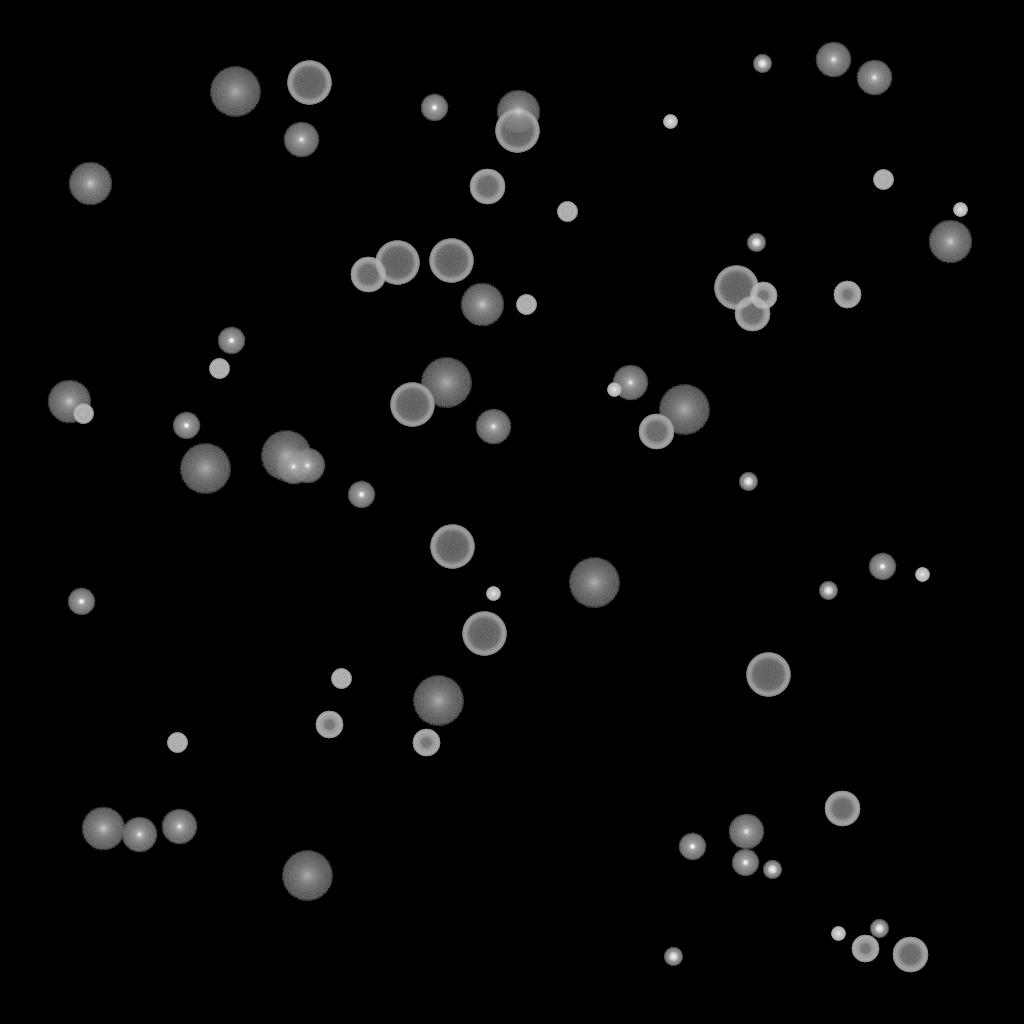depth:-10: (67, 588, 95, 616), (678, 833, 706, 861), (347, 481, 375, 509), (172, 412, 200, 440), (868, 553, 896, 581), (731, 849, 759, 877), (420, 94, 448, 122), (217, 327, 245, 355)
depth:-20: (870, 920, 888, 938), (747, 234, 765, 252), (763, 861, 781, 879), (753, 55, 771, 73), (739, 473, 757, 491), (819, 582, 837, 600), (664, 948, 682, 966)
depth:-30: (663, 115, 677, 129), (915, 568, 929, 582), (607, 383, 621, 397), (486, 587, 500, 601), (953, 203, 967, 217), (831, 927, 845, 941)
depth:-40: (516, 295, 536, 315), (73, 404, 93, 424), (167, 733, 187, 753), (873, 170, 893, 190), (209, 359, 229, 379), (331, 669, 351, 689), (557, 202, 577, 222)
depth:-50: (315, 711, 343, 739), (412, 729, 440, 757), (833, 281, 861, 309), (749, 282, 777, 310), (851, 935, 879, 963)
depth:-60: (824, 791, 860, 827), (469, 169, 505, 205), (734, 296, 770, 332), (350, 257, 386, 293), (638, 414, 674, 450), (892, 937, 928, 973)
depth:-70: (429, 239, 473, 283), (390, 383, 434, 427), (714, 266, 758, 310), (495, 109, 539, 153), (287, 61, 331, 105), (430, 525, 474, 569), (462, 612, 506, 656), (375, 241, 419, 285), (746, 653, 790, 697)
depth:0: (612, 365, 648, 401), (475, 409, 511, 445), (121, 817, 157, 853), (283, 122, 319, 158), (815, 42, 851, 78), (275, 449, 311, 485), (856, 60, 892, 96), (289, 448, 325, 484), (728, 814, 764, 850), (161, 809, 197, 845)
depth:10: (47, 380, 91, 424), (928, 220, 972, 264), (496, 90, 540, 134), (68, 162, 112, 206), (81, 807, 125, 851), (460, 283, 504, 327)
depth:20: (179, 444, 231, 494), (568, 558, 620, 608), (281, 851, 333, 901), (412, 676, 464, 726), (658, 385, 710, 435), (420, 358, 472, 408), (260, 431, 312, 481), (209, 67, 261, 117)
